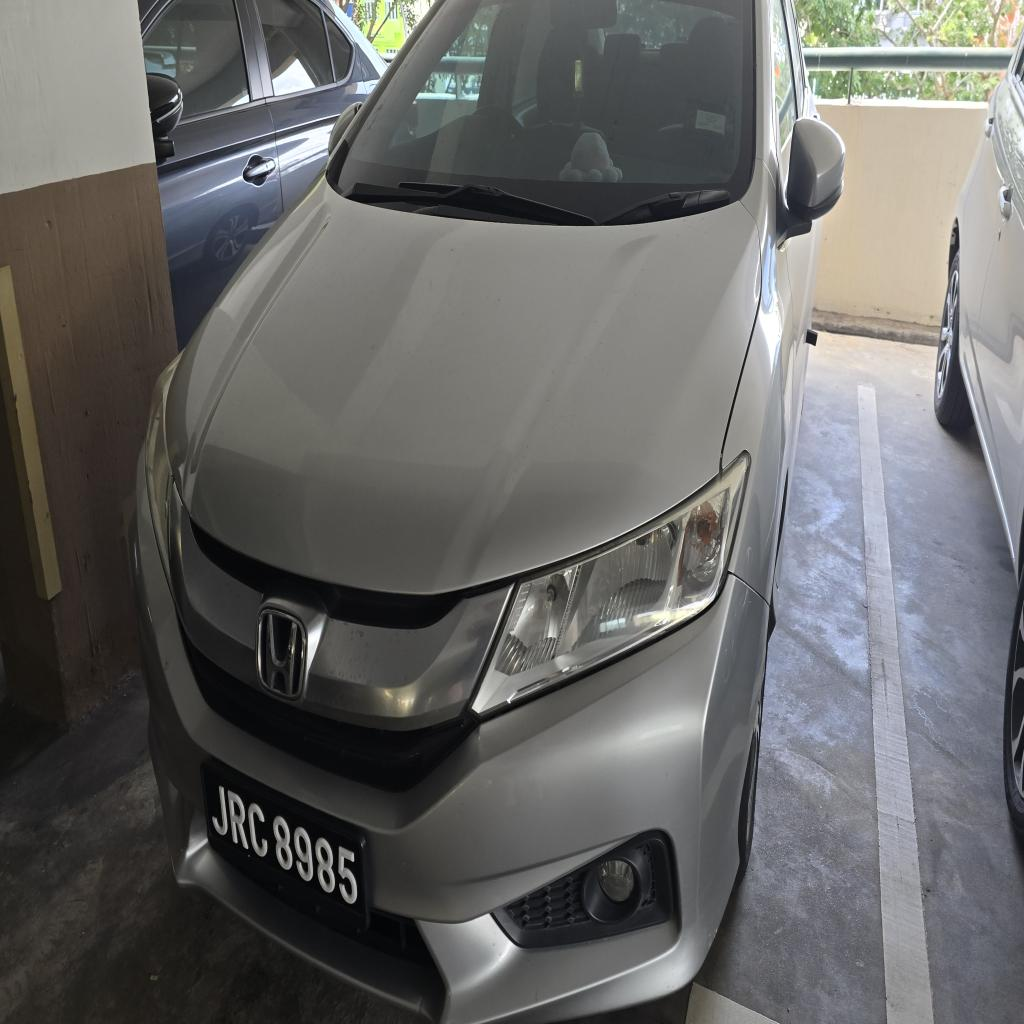car: (134, 0, 843, 1023)
car plate: (202, 765, 367, 918)
